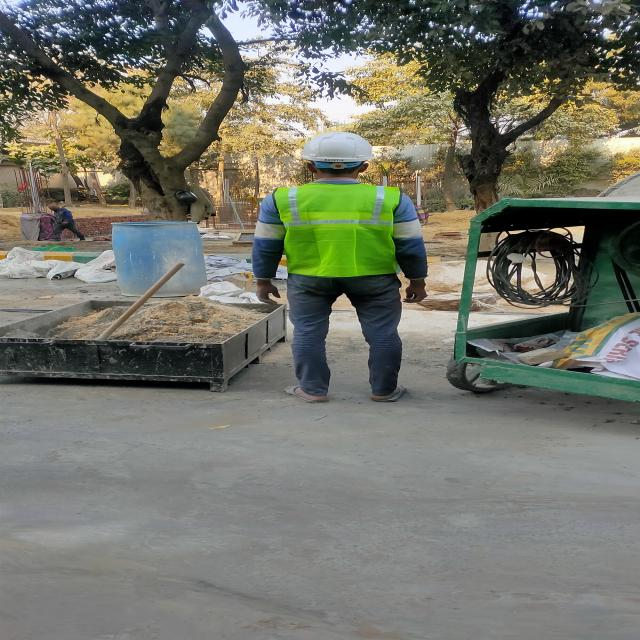safe: (252, 132, 426, 404)
unsafe: (48, 205, 86, 241)
